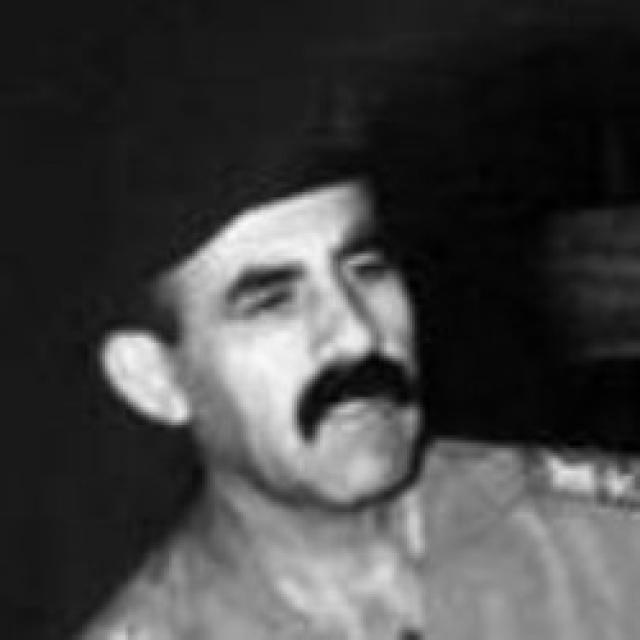real: (167, 185, 425, 514), (232, 244, 400, 324)
